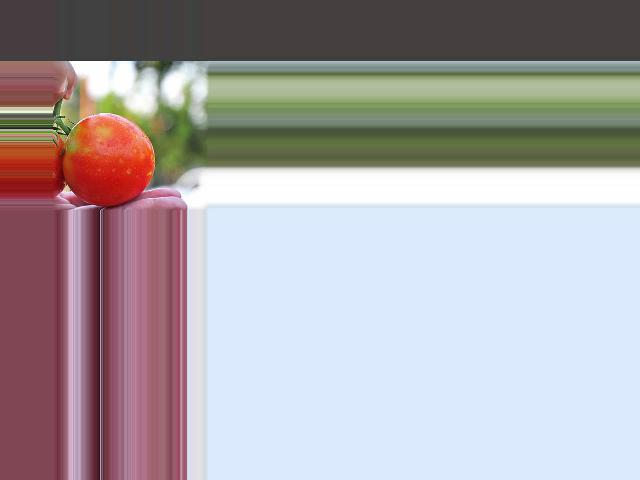tomato: (63, 113, 154, 206)
